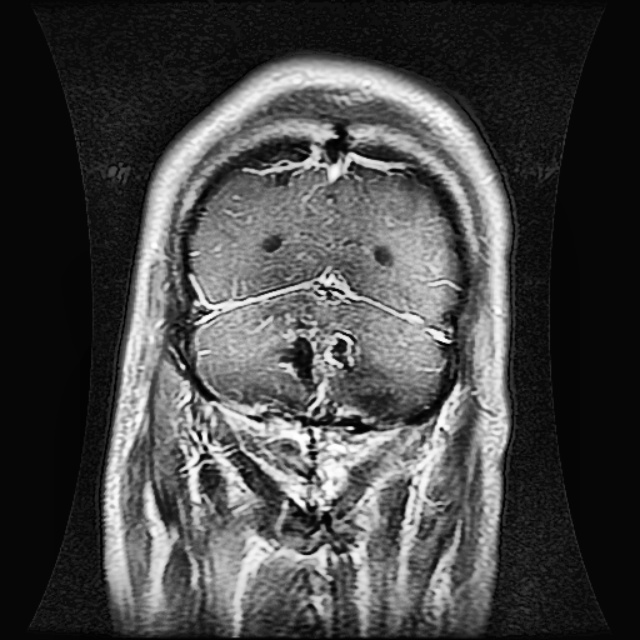Meningioma: (272, 322, 358, 387)
